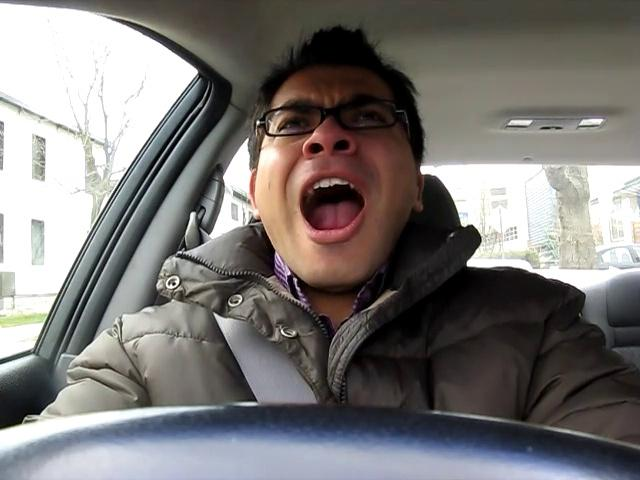close_eyeL: (261, 107, 329, 144)
close_eyeR: (330, 99, 410, 140)
yawn: (275, 171, 388, 248)
